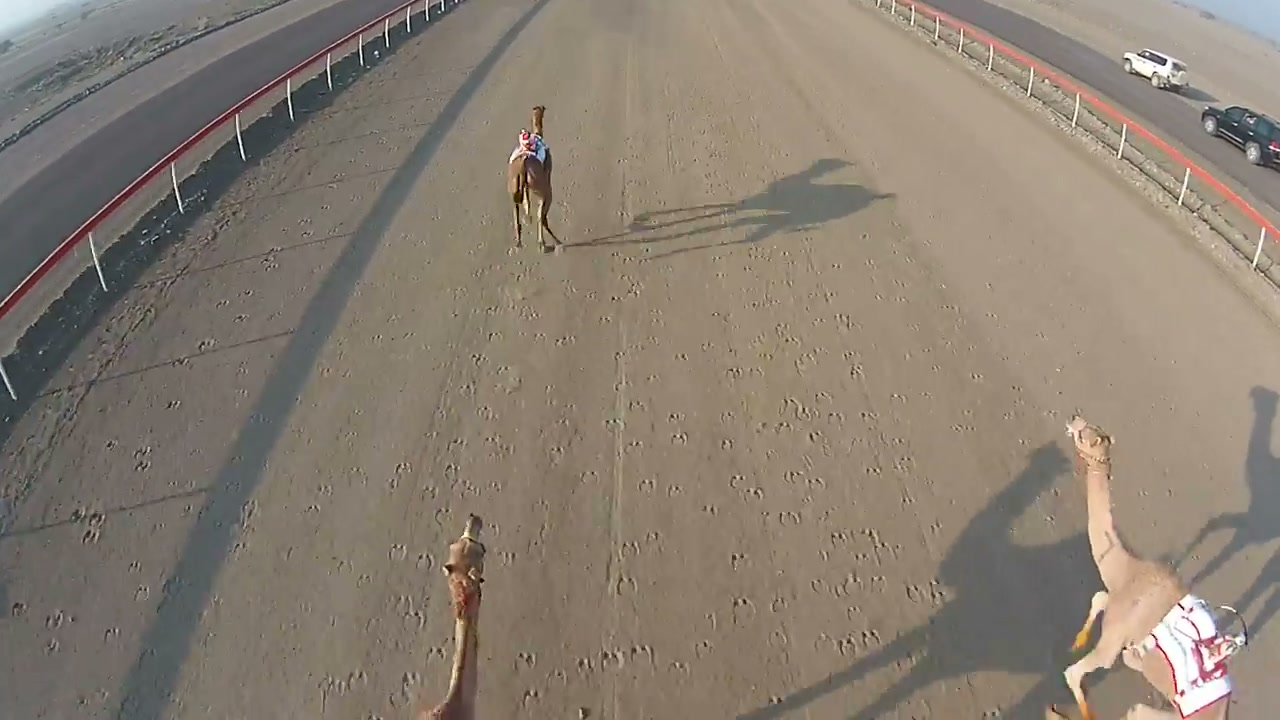animal_footprint: (38, 198, 324, 649), (371, 246, 573, 697)
